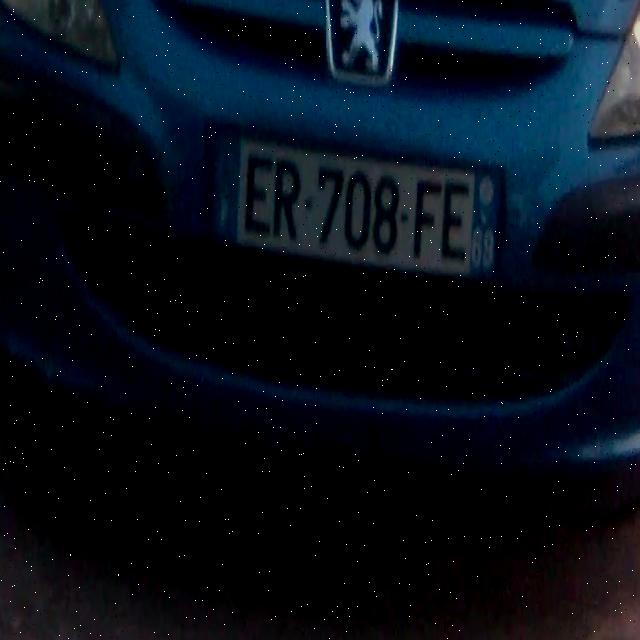EU: (203, 136, 502, 282)
France: (208, 142, 242, 240)
